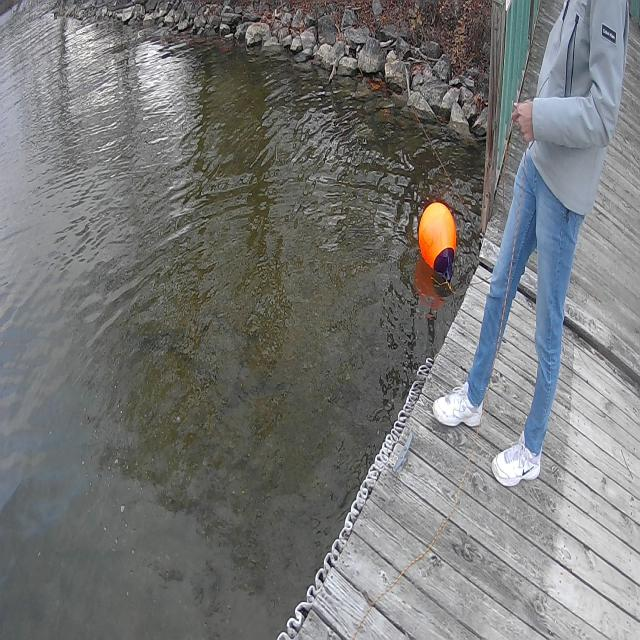Buoy: (412, 195, 460, 288)
